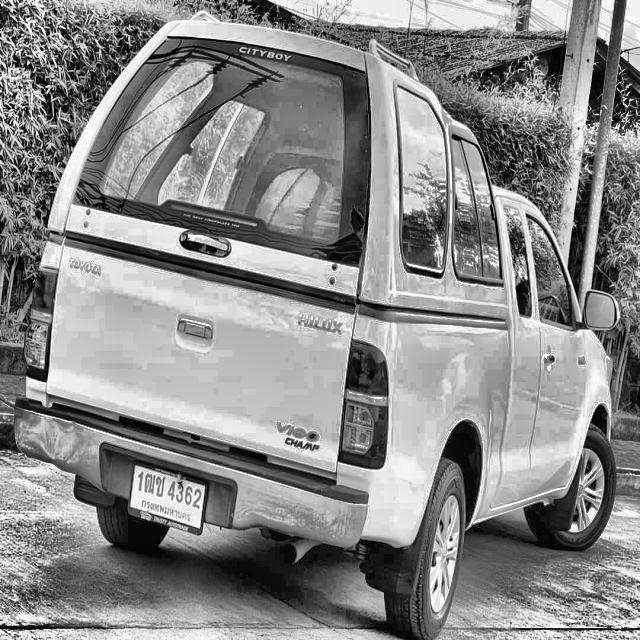license-plate: (125, 458, 211, 541)
